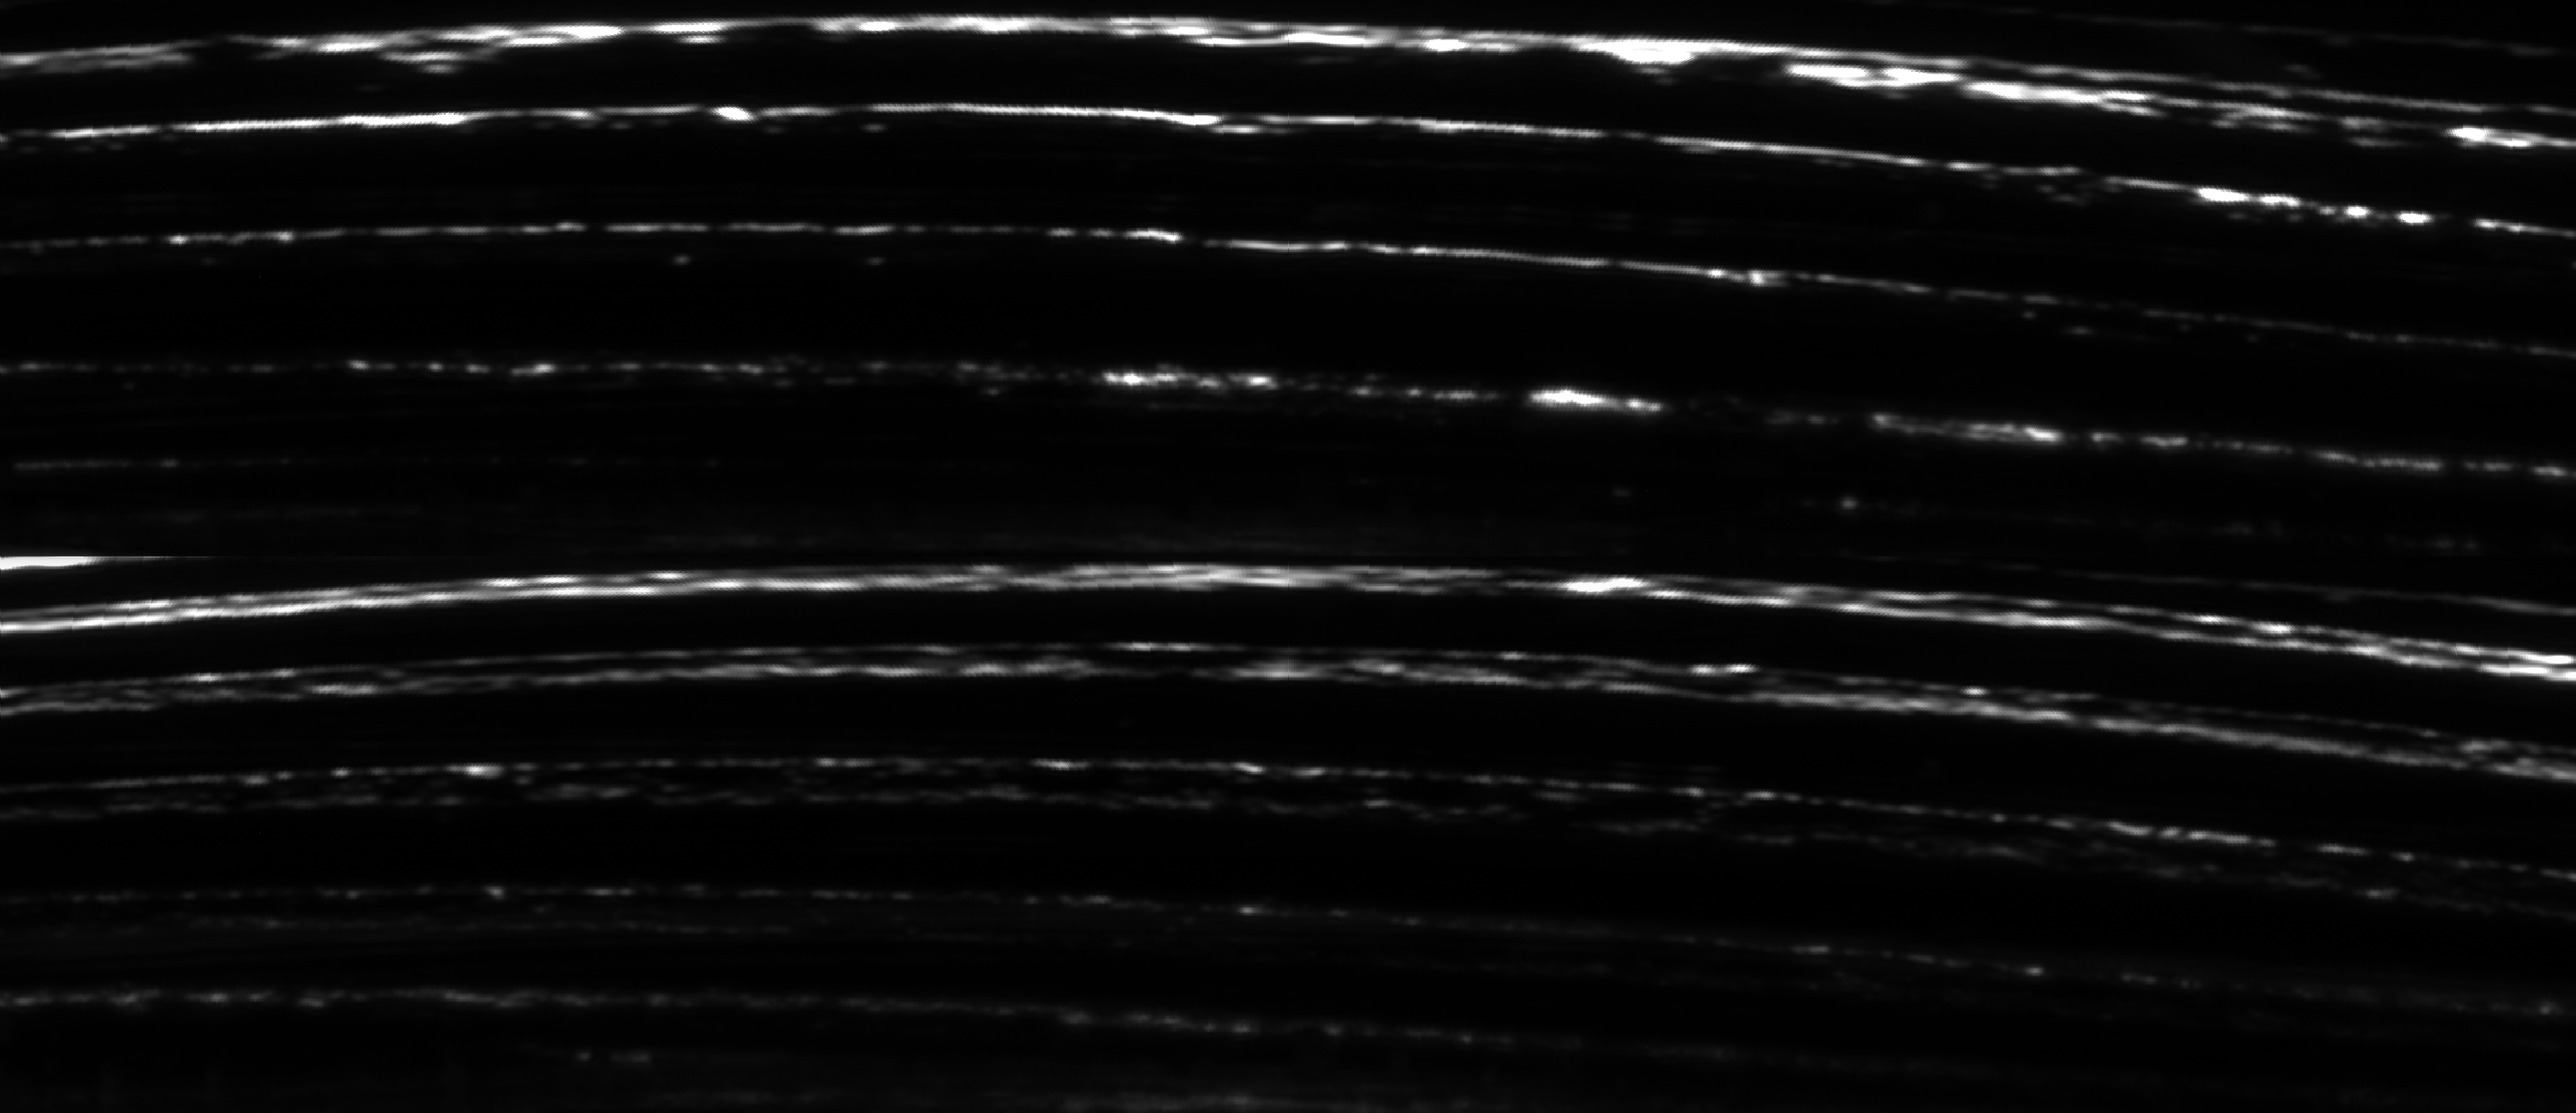corrosion: (711, 329, 1147, 414)
extensive chipped: (54, 30, 2564, 590), (64, 649, 2561, 1093)
